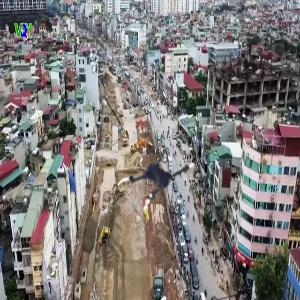drone: (115, 142, 202, 229)
